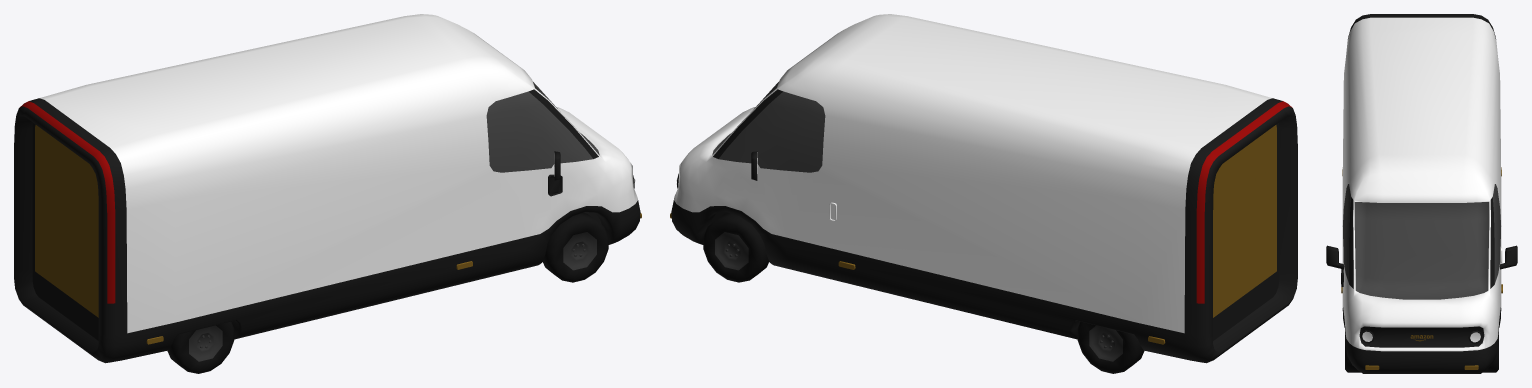
File: f1_amazon_van_white_with_wheel.dae
3 renders of one model, left to right at view 1: azimuth 30°, elevation 25°; view 2: azimuth 150°, elevation 25°; view 3: azimuth 270°, elevation 25°, orthographic. The views are drawn at different scales.
Visible parts, largest first — view 1: car_body_white, wheel_fr, wheel_rr; view 2: car_body_white, wheel_fl, wheel_rl; view 3: car_body_white, wheel_fl, wheel_fr.
Part boxes in pixels (x1,y1,x2,y2): car_body_white: [14, 14, 641, 363]; wheel_fr: [542, 213, 608, 282]; wheel_rr: [167, 321, 234, 373]; car_body_white: [670, 14, 1297, 363]; wheel_fl: [703, 213, 769, 282]; wheel_rl: [1077, 321, 1144, 373]; car_body_white: [1326, 14, 1517, 373]; wheel_fl: [1483, 326, 1498, 372]; wheel_fr: [1345, 326, 1360, 372].
Size of the model in its own units: 0.6963 by 0.2713 by 0.285.
